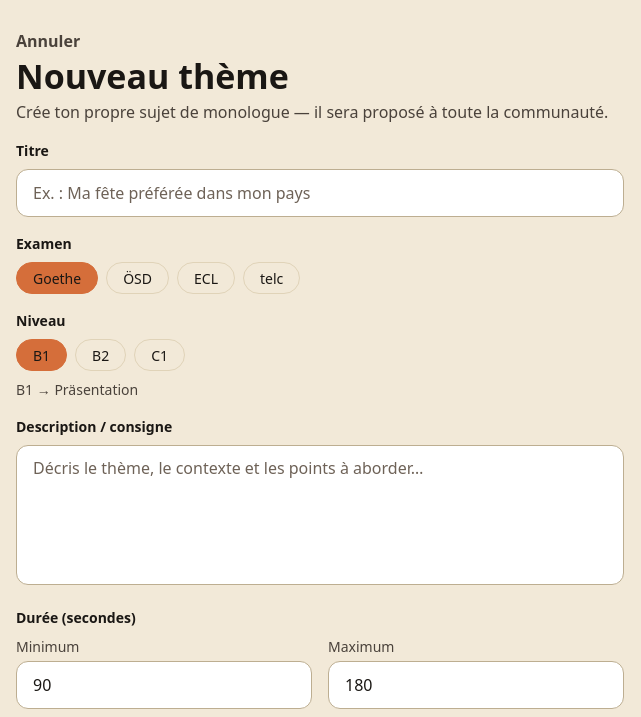
Test: CustomTopicScreen — community sprechen theme authoring (S7 Task 7.7) › canSubmit gating: empty title blocks; max < min blocks; max 601 blocks; a valid form re-enables submit
The image size is (641, 717).
Type "Mein Thema" into the field named "Titre".
click(320, 193); type("Mein Thema")  # box [16,169,624,217]
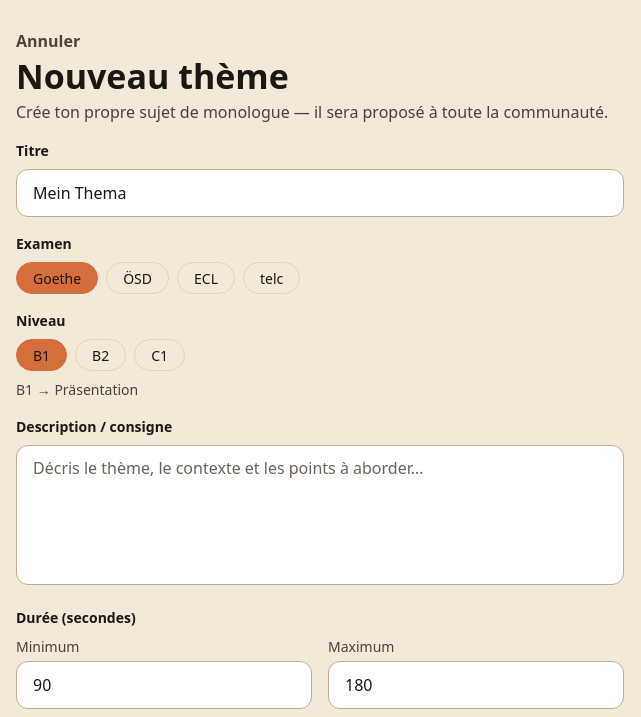
Type "Eine ausreichend lange Beschreibung des Themas." into the text box named "Description / consigne".
click(320, 515); type("Eine ausreichend lange Beschreibung des Themas.")  # box [16,445,624,585]
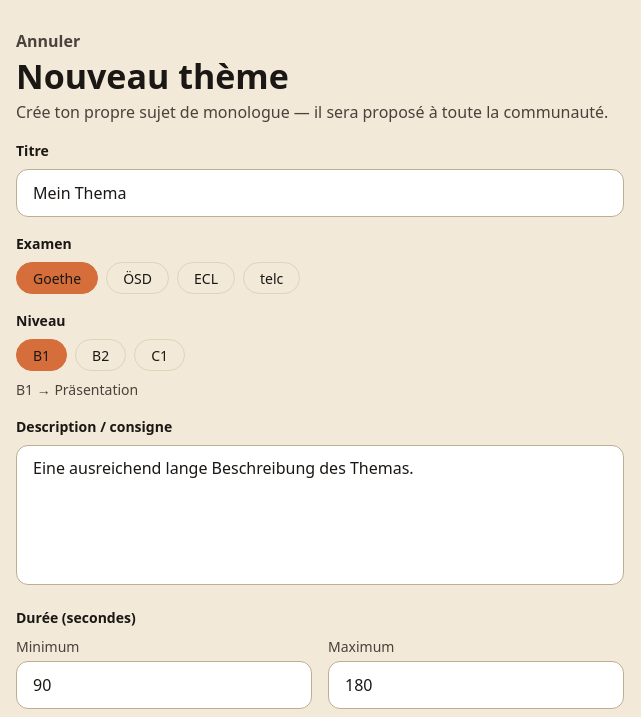
Replace the text in the field named "Maximum" with "10" at x=476, y=685, box [328,661,624,709]
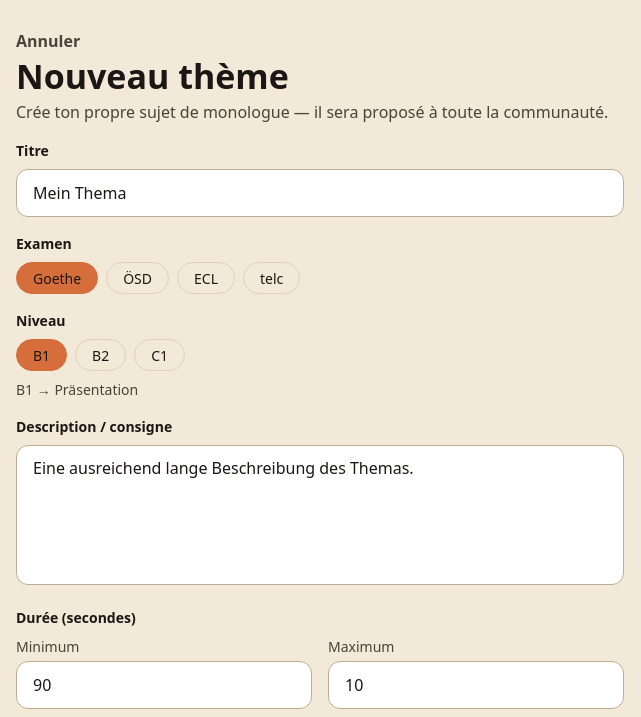
Replace the text in the field named "Maximum" with "601" at x=476, y=685, box [328,661,624,709]
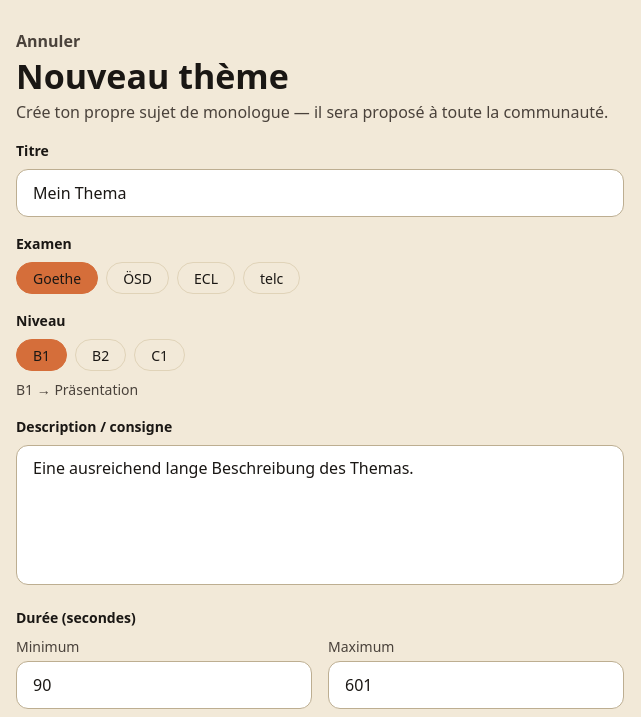
Replace the text in the field named "Maximum" with "180" at x=476, y=685, box [328,661,624,709]
(page scrolled)
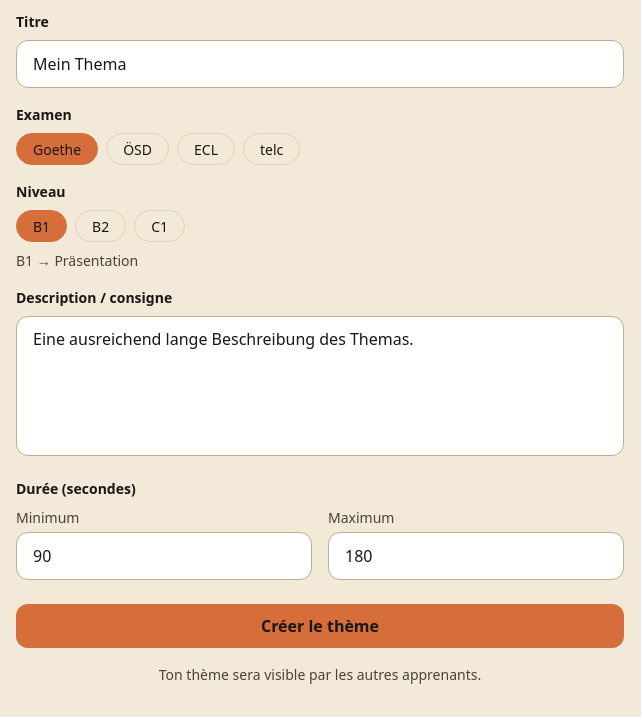
expect the button with test id "sprechen-custom-topic-submit" is enabled: met, box [16,604,624,648]
